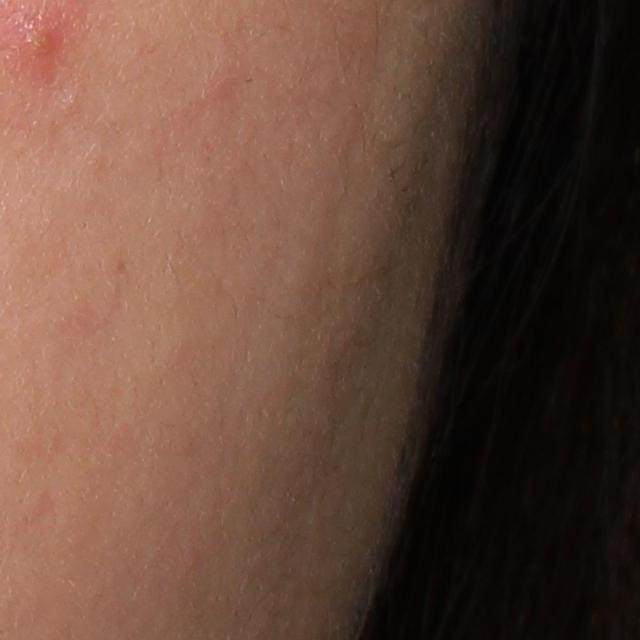papule: (18, 17, 66, 64)
